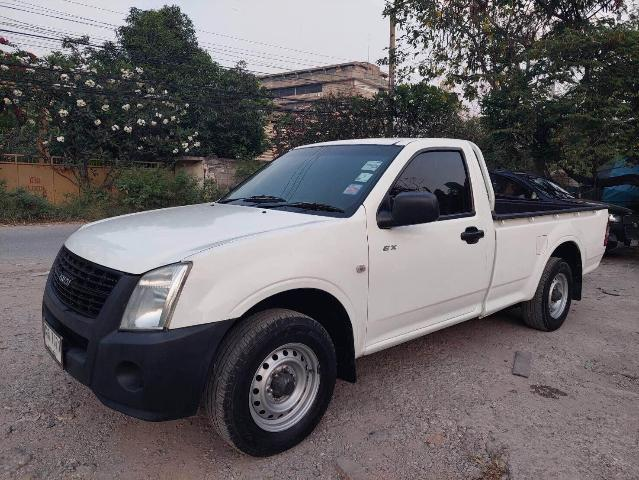pickup-truck: (37, 128, 615, 461)
